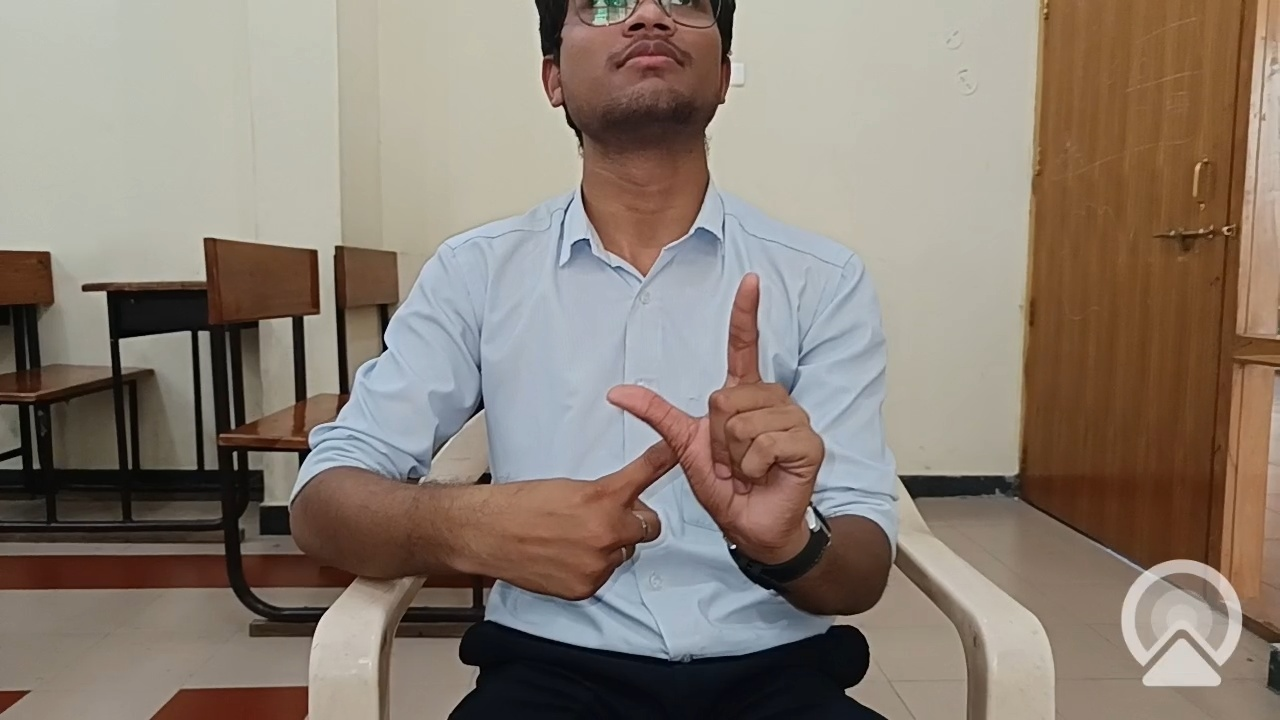Y: (451, 246, 854, 603)
